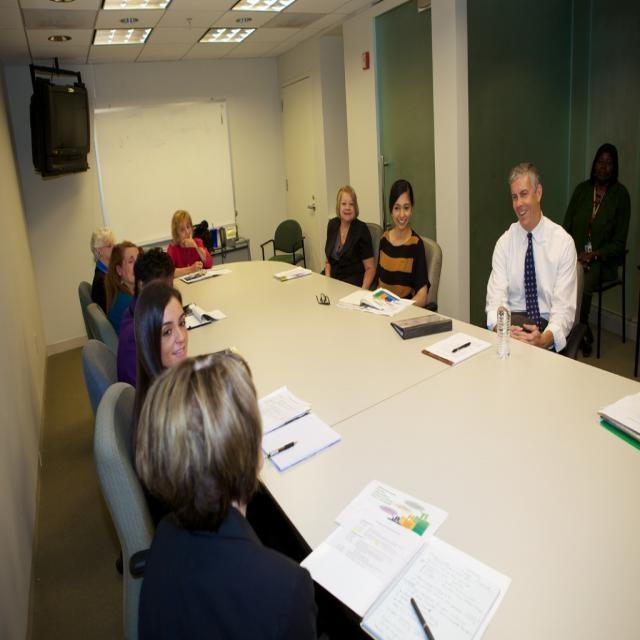Kursi: (259, 218, 306, 266)
Whiteboard: (91, 97, 237, 247)
